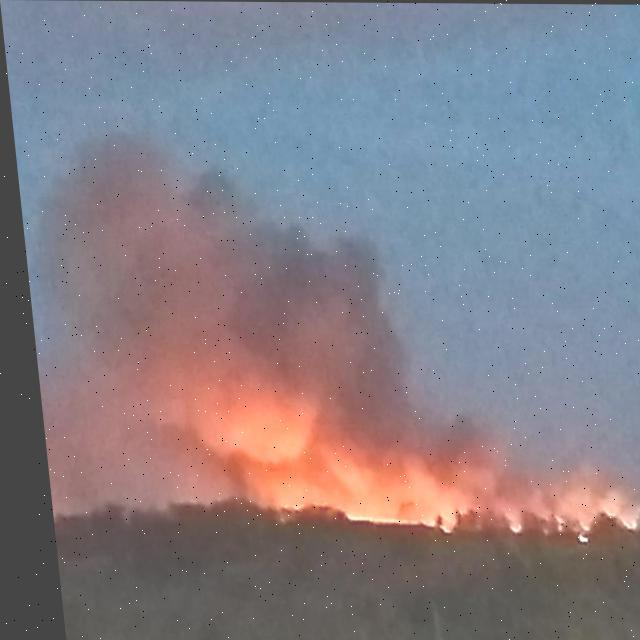Fire: (330, 509, 440, 534), (590, 502, 634, 530), (268, 496, 296, 513), (565, 521, 581, 544), (541, 514, 554, 532), (498, 520, 513, 534)
